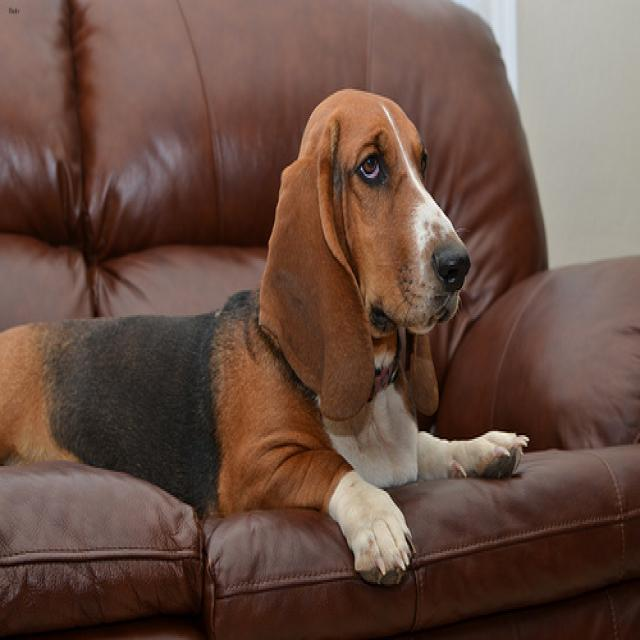dog-basset_hound: (1, 72, 538, 592)
